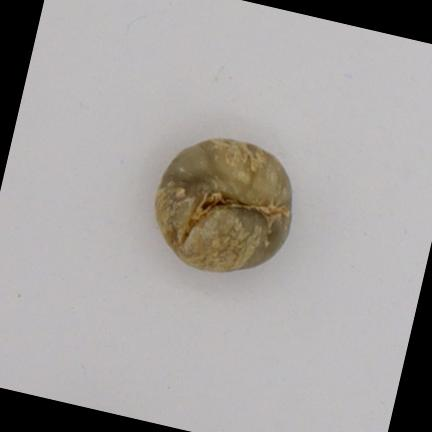immature: (156, 139, 292, 271)
